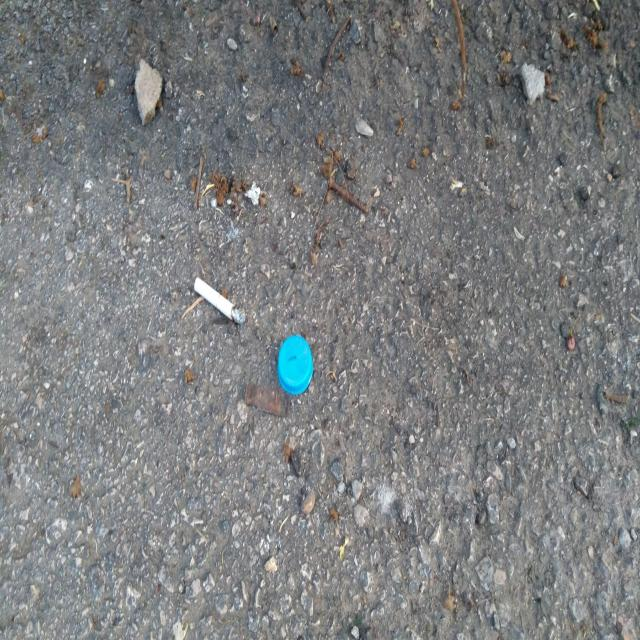less trash: (194, 278, 245, 324), (278, 336, 312, 393)
